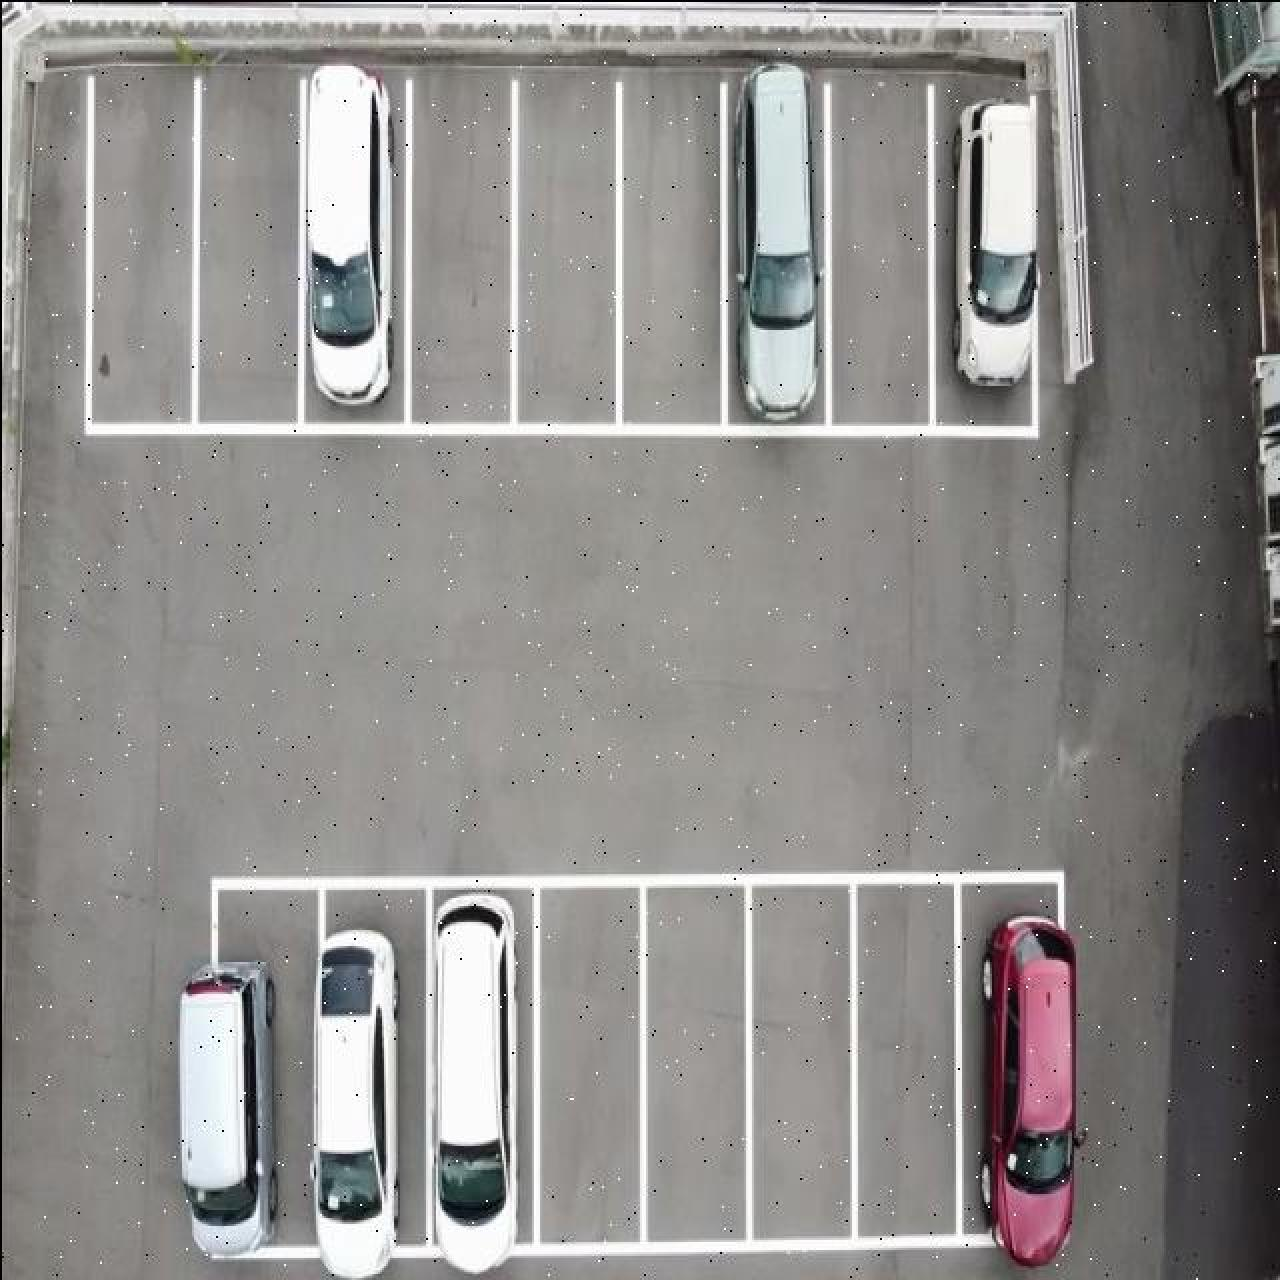car: (978, 914, 1076, 1266), (433, 892, 518, 1272), (302, 62, 394, 406), (309, 926, 399, 1278), (734, 60, 818, 420), (176, 958, 275, 1258), (952, 96, 1039, 388)
